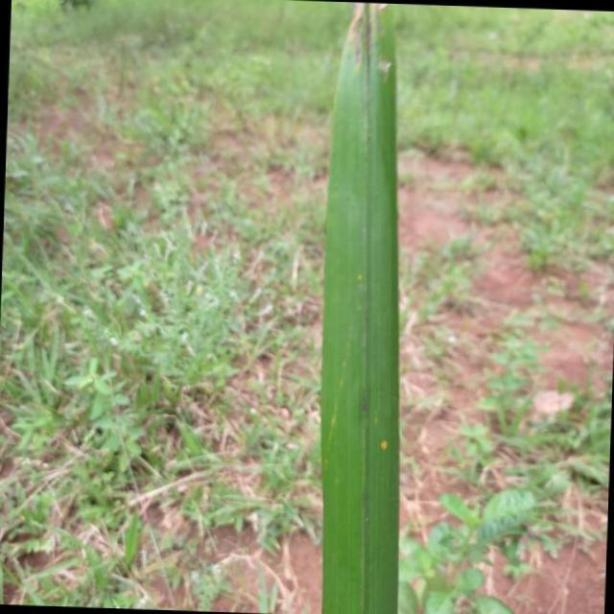Kalium: (316, 0, 405, 614)
